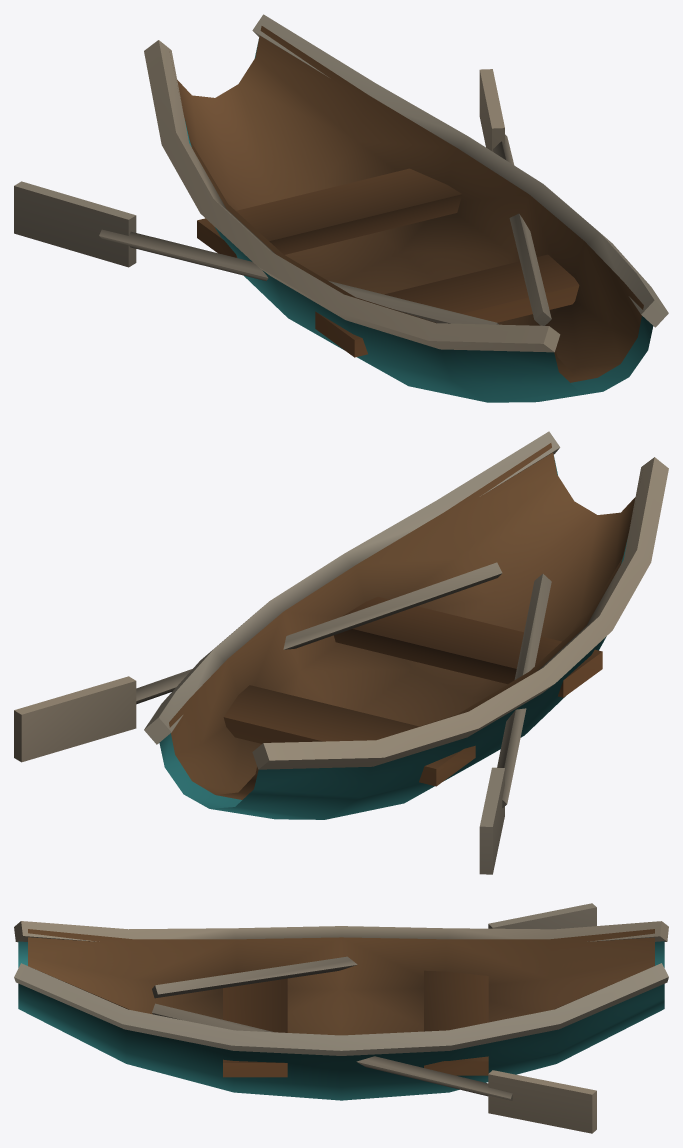
File: HD_Dinghy_Teal.glb
3 views of the same model, one above another, from view 1: azimuth 30°, elevation 25°; view 2: azimuth 150°, elevation 25°; view 3: azimuth 270°, elevation 25° (orthographic). The views are drawn at different scales.
Parts seen in each view (by area): view 1: HD_Dinghy_Teal_1_Wood; view 2: HD_Dinghy_Teal_1_Wood; view 3: HD_Dinghy_Teal_1_Wood.
Part boxes in pixels (box(x1,y1,x2,y2)): HD_Dinghy_Teal_1_Wood: box(14, 14, 668, 402); HD_Dinghy_Teal_1_Wood: box(14, 431, 668, 874); HD_Dinghy_Teal_1_Wood: box(14, 903, 668, 1133).
Bounding box in the file's own units: 6.31 × 2.2 × 9.12.
